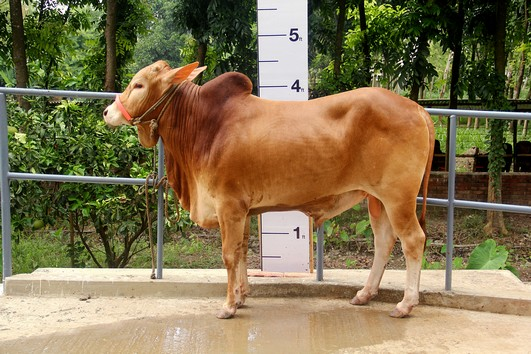cow: (97, 52, 441, 325)
